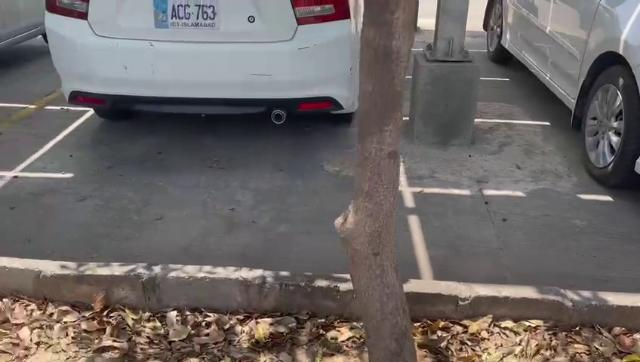plate: (148, 0, 226, 32)
